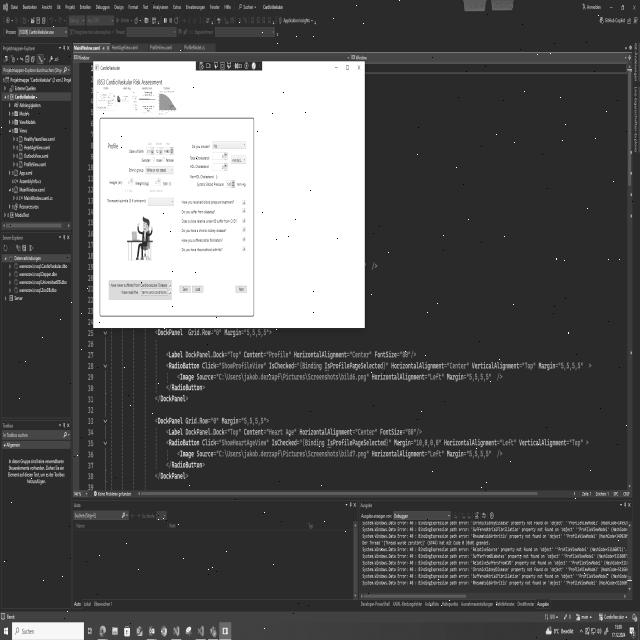button: (141, 287, 168, 297), (191, 283, 204, 294), (234, 284, 248, 293), (179, 284, 191, 294), (330, 63, 340, 74), (354, 63, 364, 73), (343, 62, 352, 72)
checkbox: (241, 208, 247, 214), (242, 236, 247, 243), (242, 198, 246, 206), (242, 217, 246, 225), (242, 226, 246, 234), (242, 245, 246, 253), (168, 282, 172, 289), (169, 290, 173, 297)
dropdownMenu: (212, 140, 247, 150), (145, 165, 174, 175), (148, 197, 175, 206), (231, 155, 247, 165)
input: (12, 623, 84, 640)
label: (97, 77, 166, 86), (109, 281, 168, 288), (106, 196, 147, 205), (180, 236, 226, 244), (180, 218, 238, 224), (181, 246, 224, 254), (180, 228, 228, 235), (181, 198, 236, 204), (181, 208, 218, 216), (195, 180, 225, 189), (190, 172, 218, 180), (100, 63, 122, 72), (106, 140, 122, 151), (191, 143, 211, 151), (109, 177, 123, 187), (119, 289, 139, 296), (135, 179, 150, 188), (128, 166, 144, 174), (189, 163, 210, 169), (128, 148, 145, 155), (189, 155, 211, 160), (140, 85, 154, 92), (149, 188, 164, 194), (140, 157, 152, 164), (124, 187, 136, 194), (162, 180, 172, 187), (236, 181, 246, 188), (121, 86, 133, 91), (166, 158, 175, 164), (102, 85, 112, 90), (164, 139, 171, 146), (145, 141, 153, 147), (154, 140, 162, 146), (155, 158, 162, 164), (162, 87, 171, 91)
radio: (162, 156, 166, 162), (152, 156, 155, 162)
upDown: (212, 151, 228, 161), (212, 162, 228, 172), (163, 146, 174, 155), (124, 177, 134, 186), (225, 180, 236, 188), (146, 146, 154, 156), (151, 178, 161, 186), (155, 146, 163, 155)
